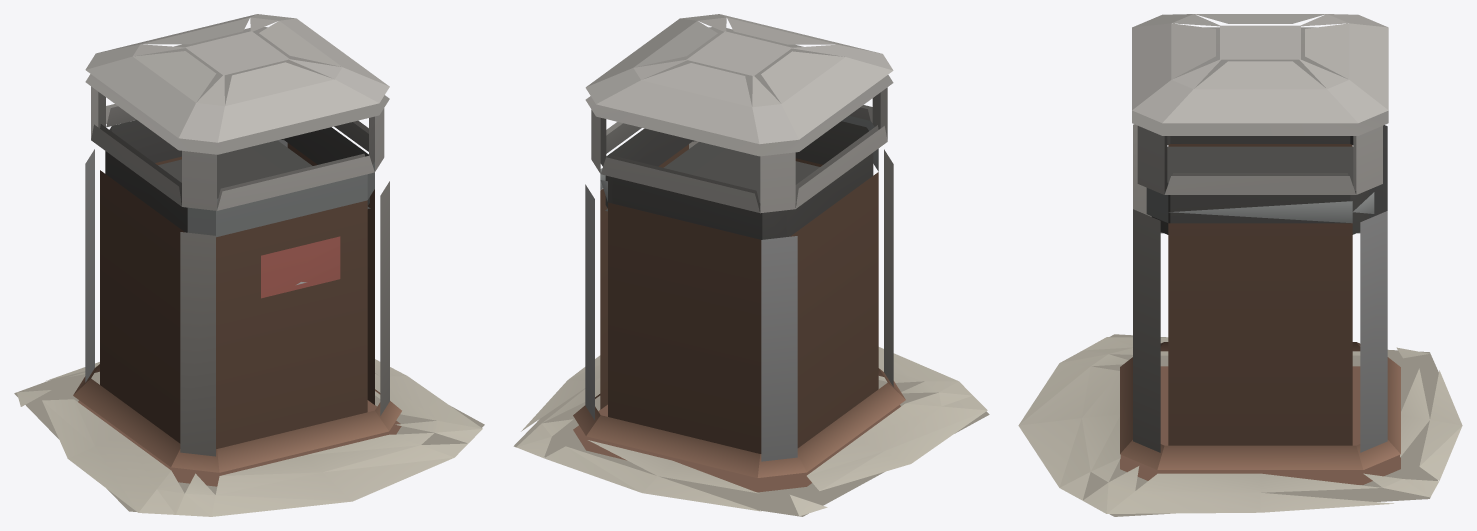
The model's file is bin.lod.glb.
3 renders of one model, left to right at view 1: azimuth 30°, elevation 25°; view 2: azimuth 150°, elevation 25°; view 3: azimuth 270°, elevation 25°, orthographic. The views are drawn at different scales.
Parts seen in each view (by area): view 1: bin; view 2: bin; view 3: bin.
Boxes of the visible parts, x1=… form: bin: x1=14, y1=14, x2=484, y2=516; bin: x1=513, y1=14, x2=989, y2=516; bin: x1=1018, y1=14, x2=1462, y2=516.
Bounding box in the file's own units: 0.9232 × 0.9024 × 0.9483.
